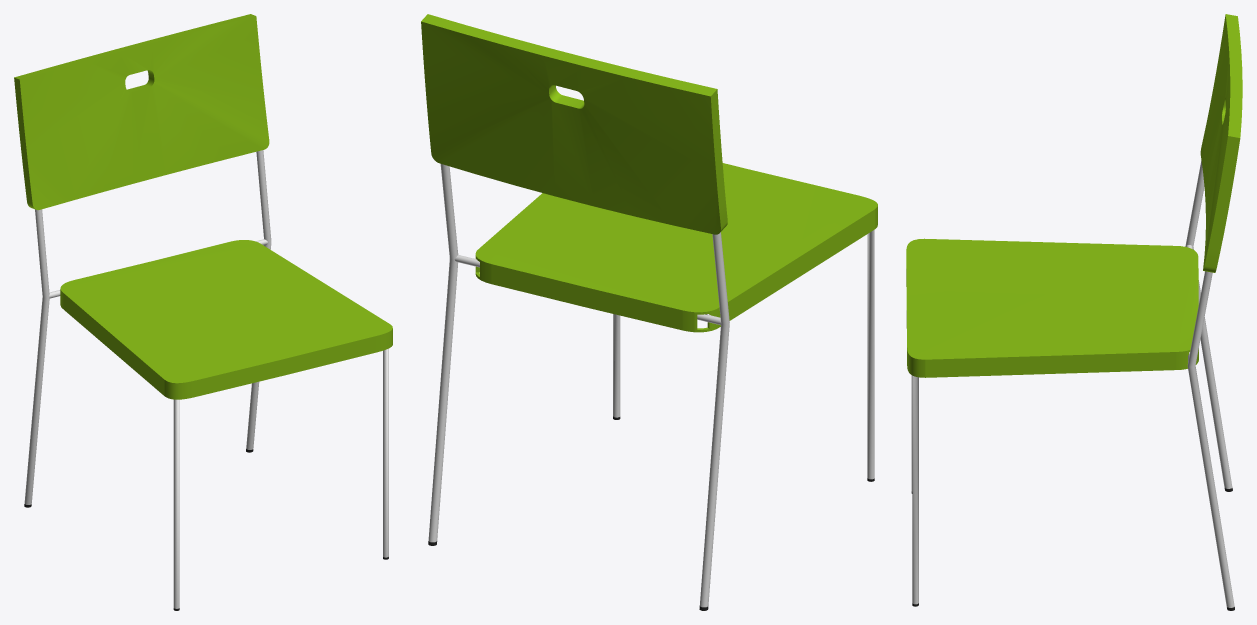
File: IKEA-Herman_chair-3D.obj
The picture shows the model from 3 angles, left to right: view 1: azimuth 30°, elevation 25°; view 2: azimuth 150°, elevation 25°; view 3: azimuth 270°, elevation 25°; orthographic projection. The views are drawn at different scales.
Visible parts, largest first — view 1: Rectangle01, Loft05; view 2: Rectangle01, Loft05; view 3: Rectangle01, Loft05.
Part boxes in pixels (box(x1,y1,x2,y2)): Rectangle01: box(14, 14, 392, 399); Loft05: box(24, 150, 388, 610); Rectangle01: box(421, 14, 877, 332); Loft05: box(428, 164, 874, 610); Rectangle01: box(906, 14, 1242, 377); Loft05: box(911, 161, 1234, 610).
Bounding box in the file's own units: 45.53 × 78.78 × 50.42.
